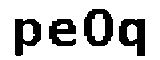0: (82, 4, 115, 50)
e: (47, 17, 77, 50)
p: (10, 12, 40, 60)
q: (116, 14, 147, 60)
